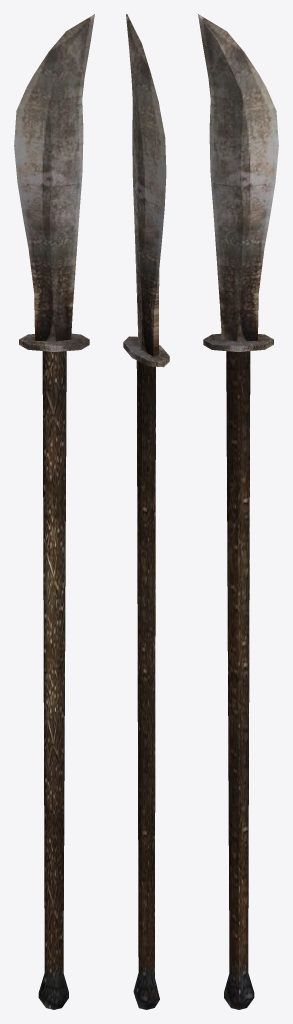
File: weapons_longw06.glb
The picture shows the model from 3 angles, left to right: view 1: azimuth 90°, elevation 25°; view 2: azimuth 210°, elevation 25°; view 3: azimuth 270°, elevation 25°; orthographic projection.
Parts seen in each view (by area): view 1: longw06; view 2: longw06; view 3: longw06.
Boxes of the visible parts, x1,y1,x2,y2 form: longw06: [14, 14, 94, 1009]; longw06: [123, 14, 169, 1009]; longw06: [198, 14, 278, 1009].
Size of the model in its own units: 0.0595 by 1.93 by 0.1429.
Materials: 1 (1 with a texture image).
